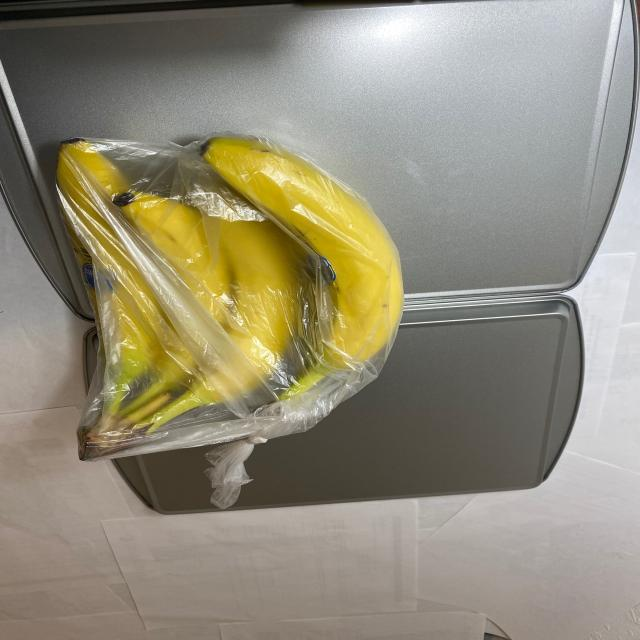banana: (46, 106, 402, 465)
